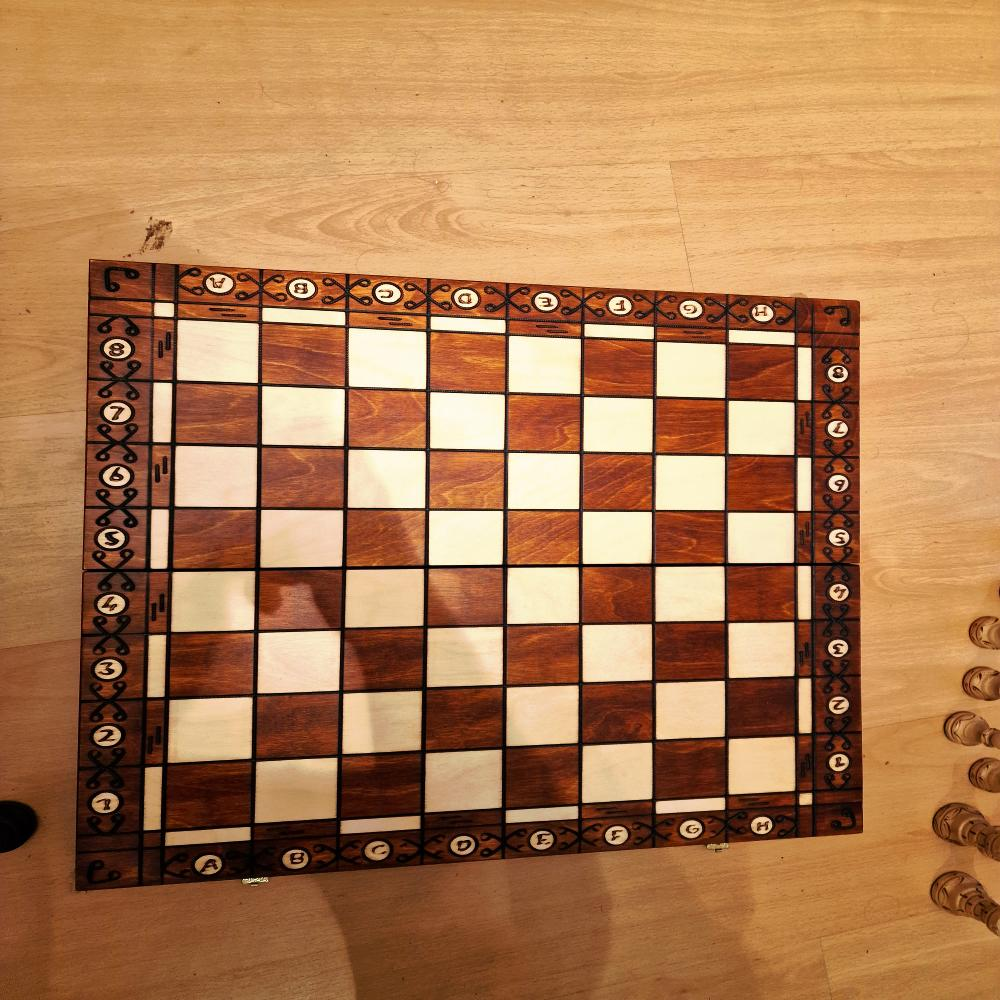chessboard-corners: (78, 260, 861, 890)
chessfield: (163, 695, 256, 764), (169, 761, 258, 830), (256, 565, 345, 634), (256, 447, 352, 509), (167, 632, 258, 697), (339, 752, 426, 819), (341, 566, 428, 633), (178, 319, 263, 386), (256, 758, 341, 824), (178, 382, 263, 447), (256, 693, 337, 761), (172, 569, 259, 632), (258, 629, 341, 695), (263, 385, 348, 449), (174, 443, 256, 508), (258, 508, 345, 569), (341, 629, 428, 690), (174, 507, 259, 569), (263, 325, 348, 387), (343, 691, 424, 756), (428, 686, 509, 751), (346, 328, 428, 390), (348, 447, 431, 508), (424, 568, 507, 629), (581, 680, 656, 747), (428, 748, 502, 815), (426, 627, 507, 688), (346, 508, 428, 568), (346, 389, 428, 449), (507, 683, 581, 749), (428, 392, 507, 453), (507, 336, 585, 397), (428, 332, 507, 392), (654, 451, 729, 514), (426, 508, 507, 566), (426, 449, 507, 507), (507, 747, 581, 809), (655, 680, 730, 741), (505, 451, 581, 511), (507, 625, 581, 686), (509, 394, 585, 453), (650, 508, 728, 565), (581, 453, 657, 511), (654, 568, 730, 626), (655, 740, 729, 799), (654, 397, 729, 455), (507, 512, 583, 569), (581, 741, 652, 802), (583, 564, 654, 625), (509, 568, 583, 626), (583, 396, 657, 454), (728, 619, 798, 680), (654, 343, 730, 399), (580, 625, 657, 680), (655, 622, 729, 679), (728, 679, 796, 740), (581, 512, 657, 566), (728, 564, 796, 623), (726, 401, 796, 457), (728, 738, 796, 795), (585, 342, 656, 396), (728, 346, 794, 403), (728, 457, 796, 512), (728, 511, 796, 565)
innerChessboard: (167, 321, 796, 833)
